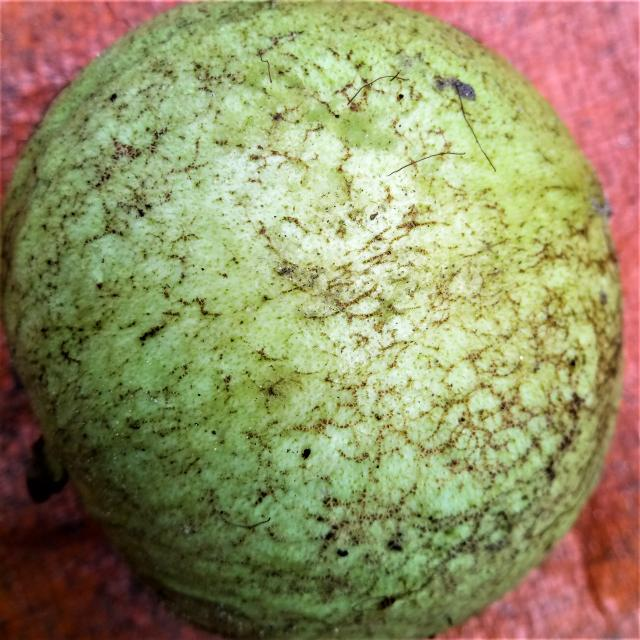Scab: (3, 1, 622, 640)
